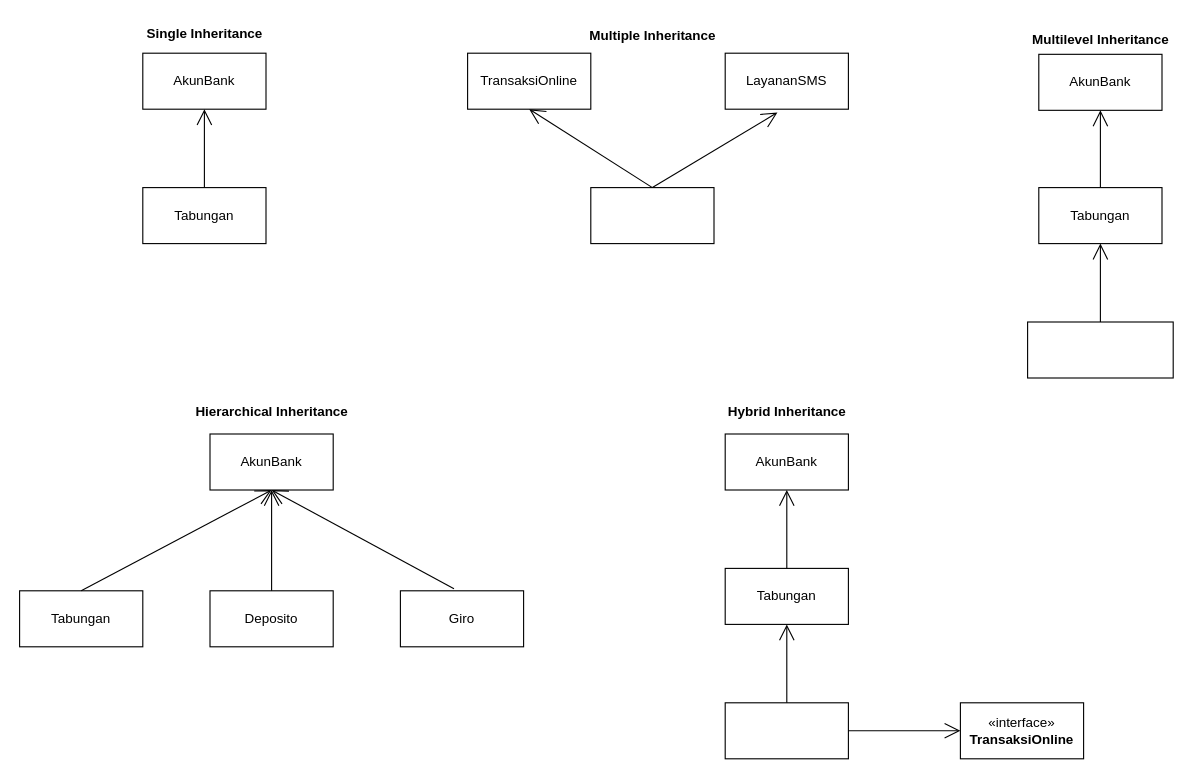
This 1193x778 diagram has some shape labels left out. The centre of each missing label's shape, as x and y in pixels:
MobileBanking: point (652, 215)
TabunganDigital: point (786, 730)
TabunganMahasiswa: point (1099, 349)
